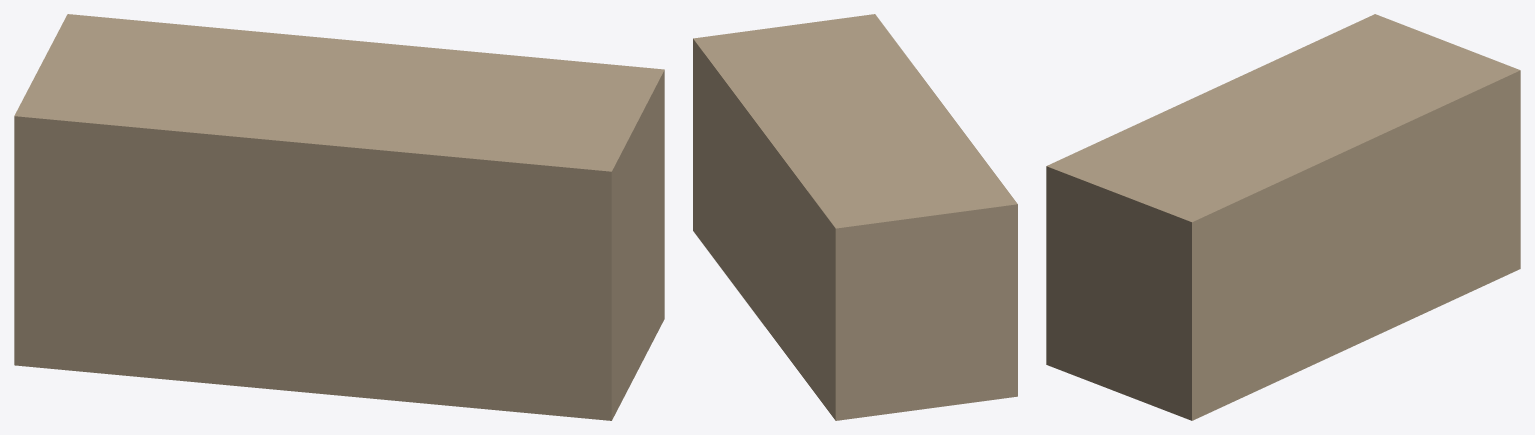
File: bld_101289723.dae
3 views of the same model, side by side, from view 1: azimuth 30°, elevation 25°; view 2: azimuth 150°, elevation 25°; view 3: azimuth 270°, elevation 25° (orthographic). The views are drawn at different scales.
Parts seen in each view (by area): view 1: bld_101289723; view 2: bld_101289723; view 3: bld_101289723.
Boxes of the visible parts, bbox=[...] form: bld_101289723: bbox=[14, 14, 664, 420]; bld_101289723: bbox=[693, 14, 1017, 420]; bld_101289723: bbox=[1046, 14, 1520, 420].
Bounding box in the file's own units: 17.99 × 17.32 × 8.
